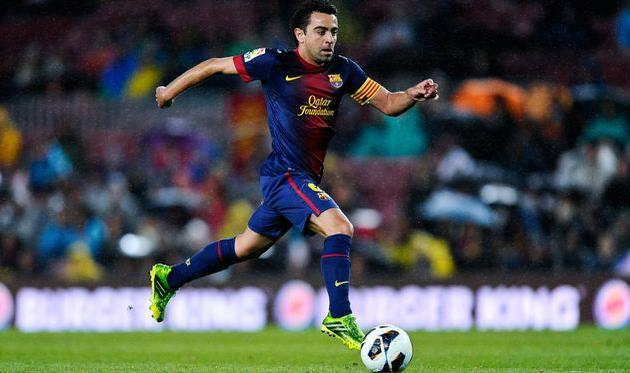ball: (360, 324, 414, 372)
player: (149, 1, 439, 348)
